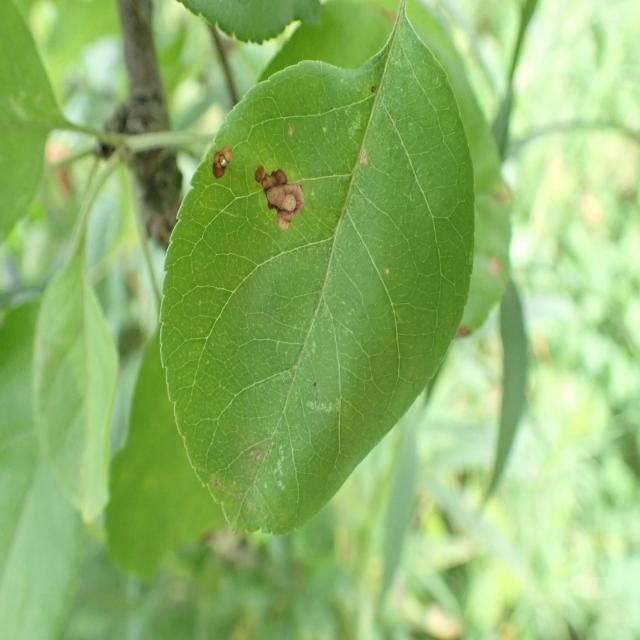Black Rot: (250, 156, 310, 246), (197, 132, 237, 182)
